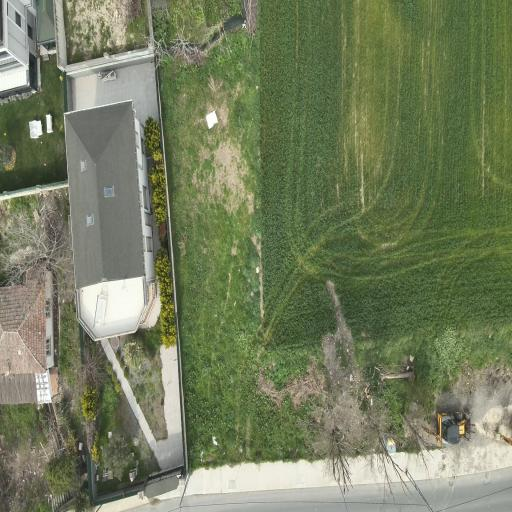car: (427, 412, 471, 444)
